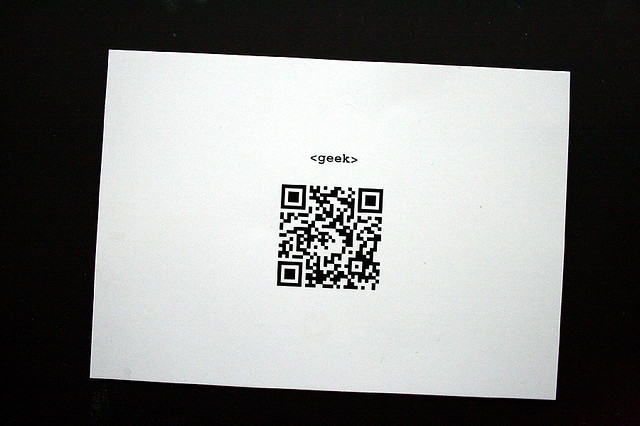QR-CODE: (277, 185, 382, 289)
